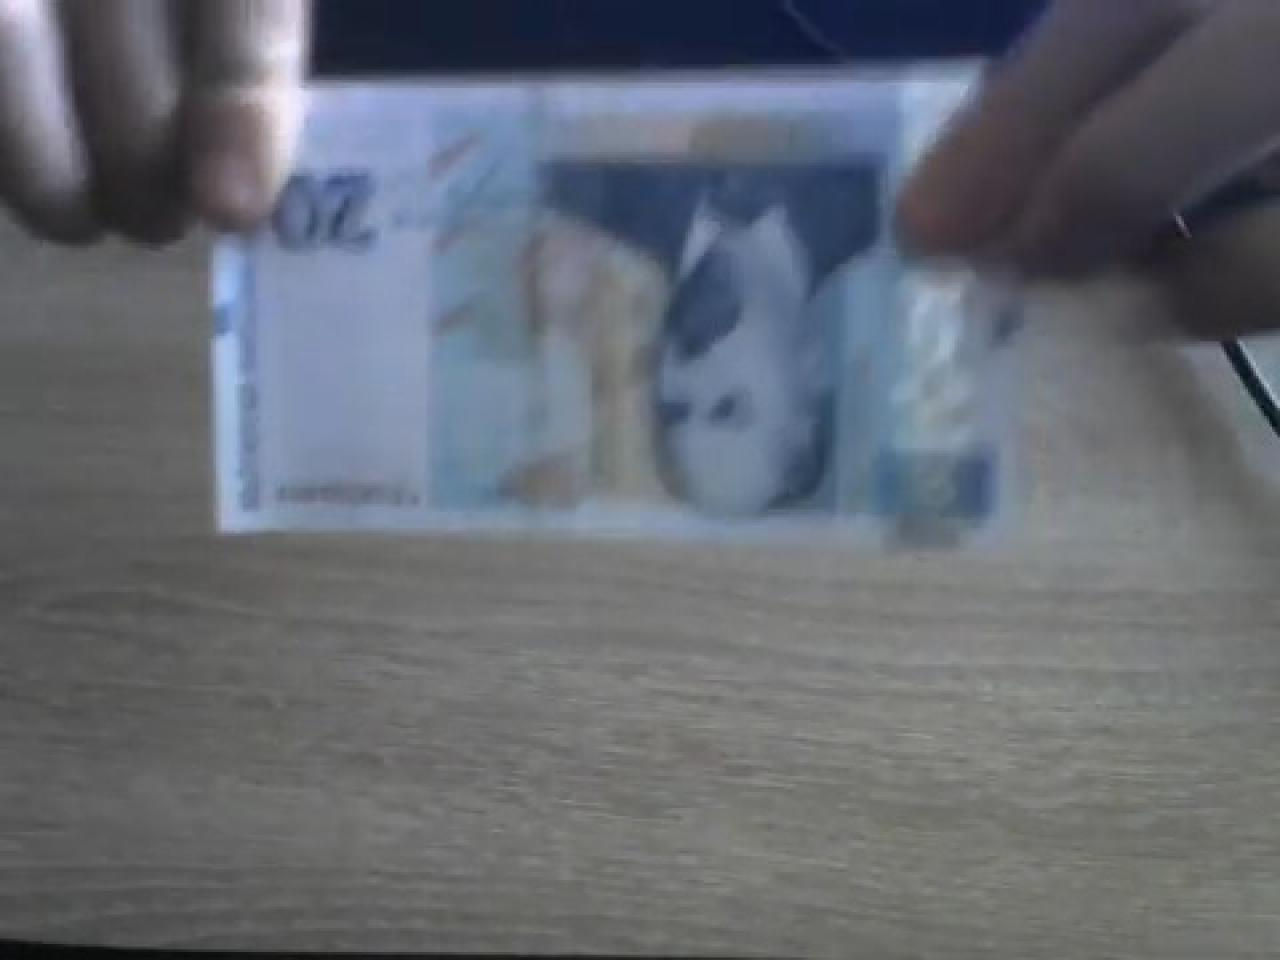20leva: (206, 75, 1024, 555)
